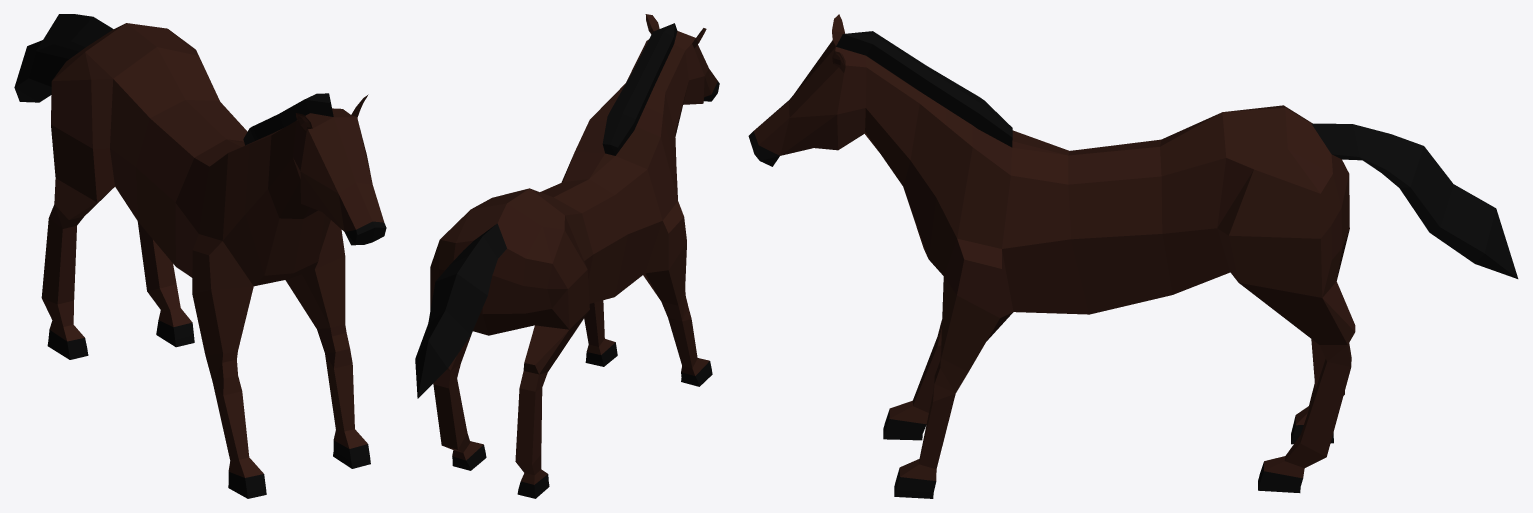
File: Horse_000029.obj
3 views of the same model, side by side, from view 1: azimuth 30°, elevation 25°; view 2: azimuth 150°, elevation 25°; view 3: azimuth 270°, elevation 25° (orthographic). The views are drawn at different scales.
Parts seen in each view (by area): view 1: Horse_Cylinder; view 2: Horse_Cylinder; view 3: Horse_Cylinder.
Boxes of the visible parts, left/top/right/bottom form: Horse_Cylinder: left=14, top=14, right=386, bottom=498; Horse_Cylinder: left=415, top=14, right=719, bottom=498; Horse_Cylinder: left=748, top=14, right=1518, bottom=498.
Bounding box in the file's own units: 2.56 × 6.43 × 10.4.
